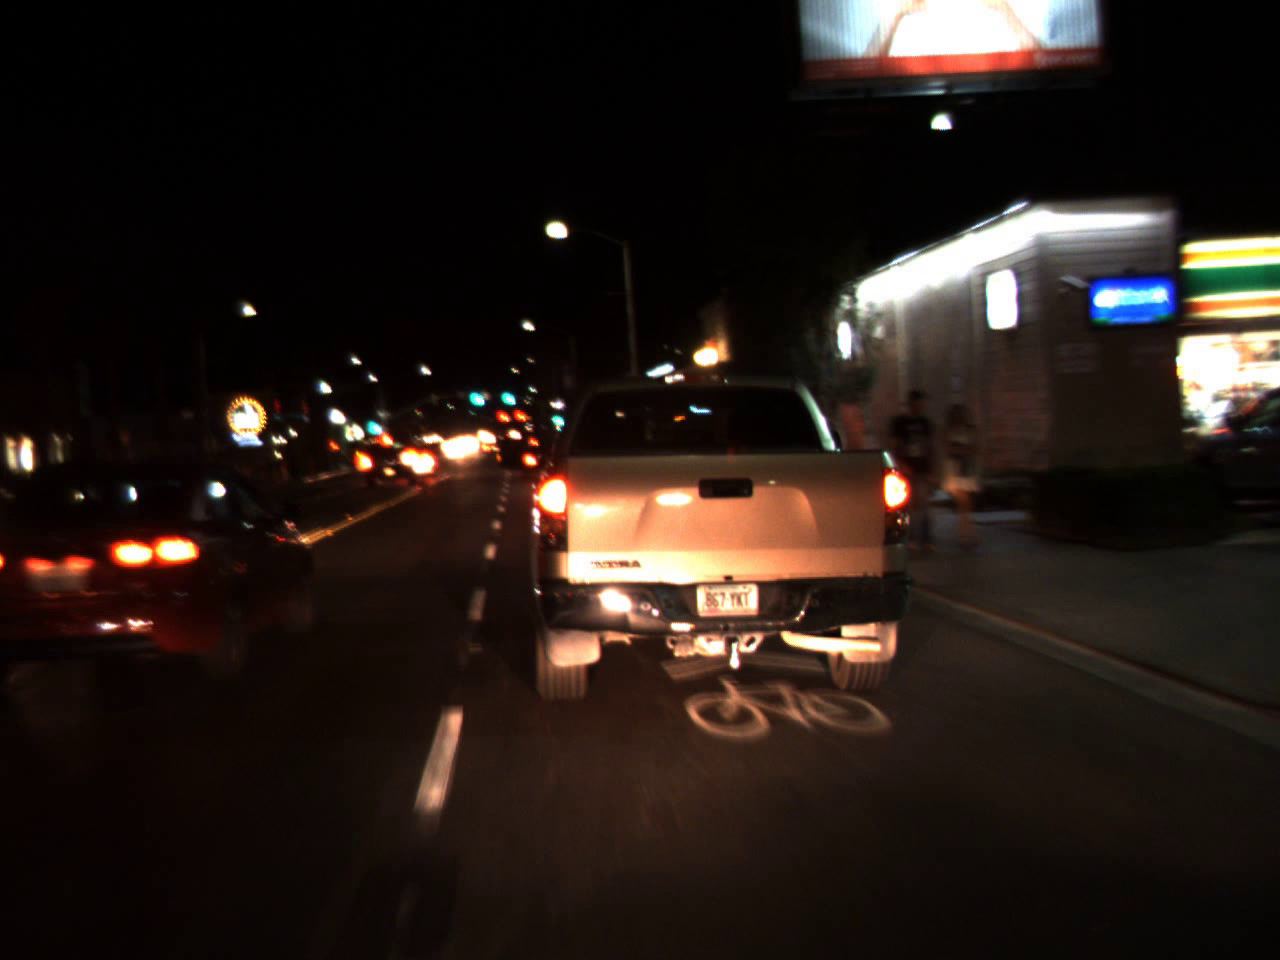go: (464, 373, 485, 412), (496, 376, 517, 409), (363, 404, 379, 440), (547, 401, 566, 431)
